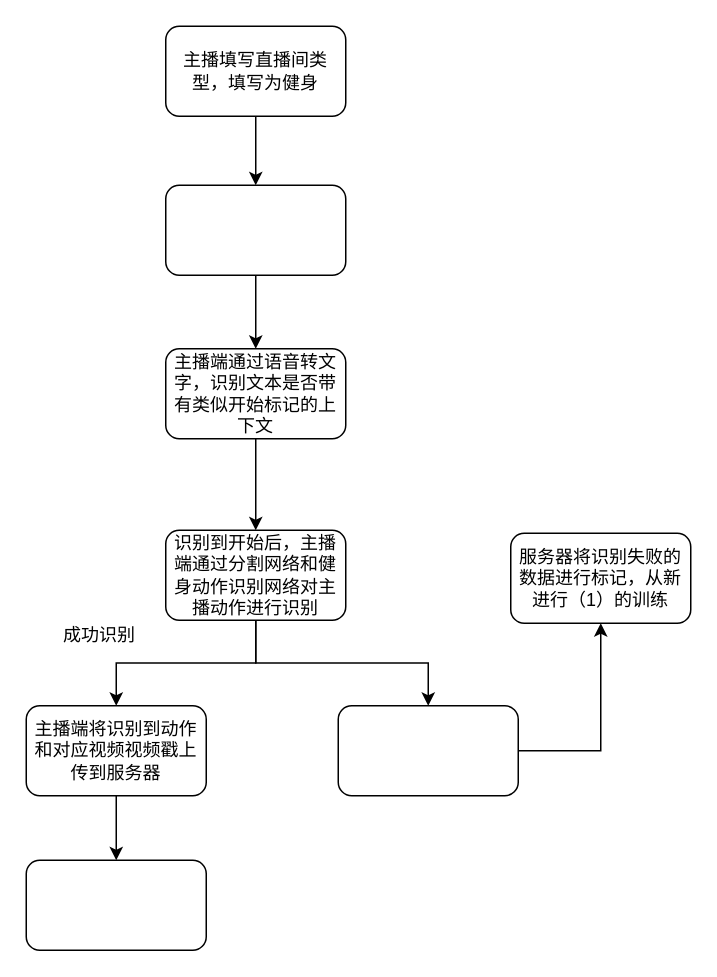
Image size: 717x977. Some labels were removed from this diagram. Here are the shapes that lost their labels. From the top down, the centre of each, then its label:
(x=255, y=229): 服务器推送躯干切割网络，健身动作识别网络，nlp文字场景网络到主播端
(x=427, y=750): 主播端将无法识别的时间段时间上传到服务器
(x=115, y=904): 服务器将识别动作标识和时间戳推送到用户客户端
